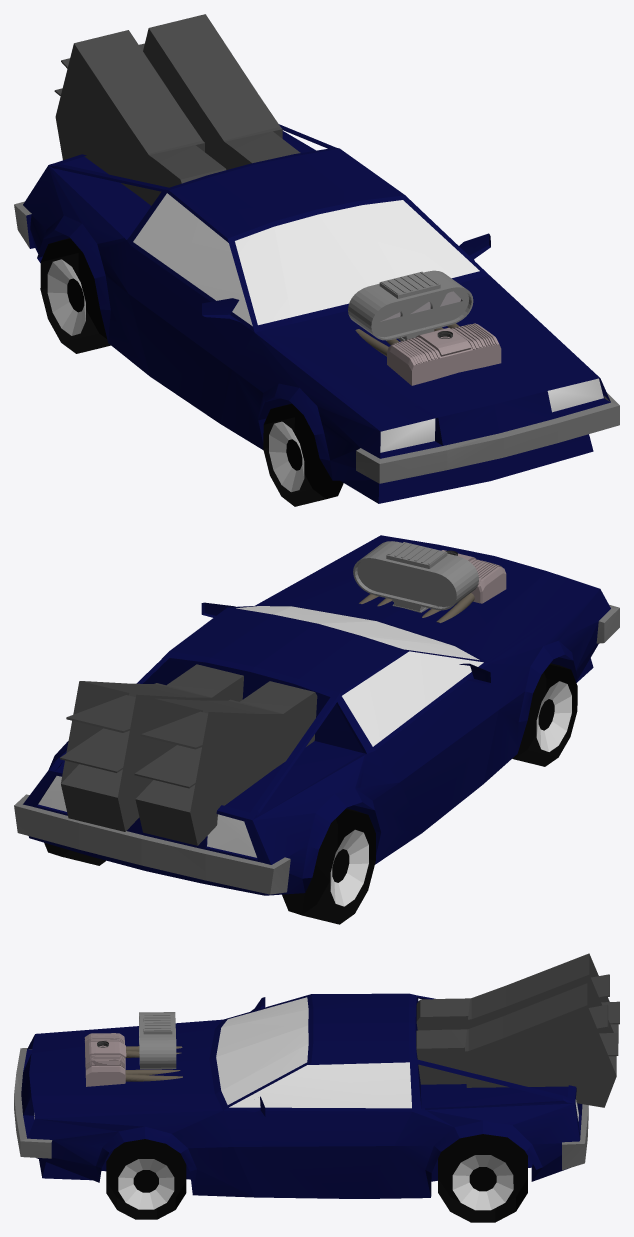
Rendered from Car.fbx.
The picture shows the model from 3 angles, top to bottom: view 1: azimuth 30°, elevation 25°; view 2: azimuth 150°, elevation 25°; view 3: azimuth 270°, elevation 25°; orthographic projection. The views are drawn at different scales.
Visible parts, largest first — view 1: car; view 2: car; view 3: car.
Part boxes in pixels (box(x1,y1,x2,y2)): car: box(14, 14, 619, 506); car: box(14, 535, 619, 924); car: box(14, 953, 619, 1222).
Bounding box in the file's own units: 7128 × 5667 × 16421.
